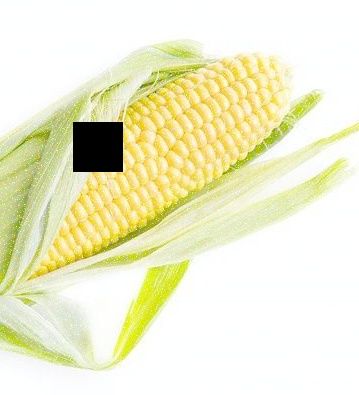corn: (7, 56, 290, 284)
